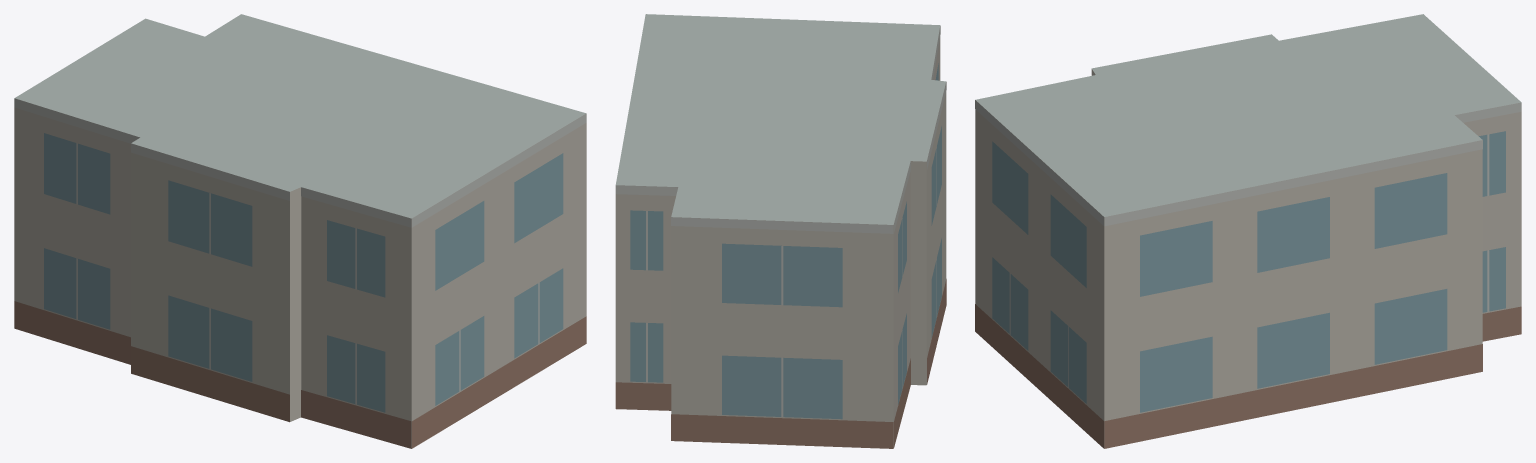
File: survey-upis-32732461.glb
3 renders of one model, left to right at view 1: azimuth 30°, elevation 25°; view 2: azimuth 150°, elevation 25°; view 3: azimuth 270°, elevation 25°, orthographic. The views are drawn at different scales.
Visible parts, largest first — view 1: survey-upis-32732461.tmp; view 2: survey-upis-32732461.tmp; view 3: survey-upis-32732461.tmp.
Boxes of the visible parts, x1,y1,x2,y2 form: survey-upis-32732461.tmp: (14,14,586,448); survey-upis-32732461.tmp: (615,14,946,448); survey-upis-32732461.tmp: (975,14,1521,448).
Size of the model in its own units: 11.48 by 6.1 by 13.05.
